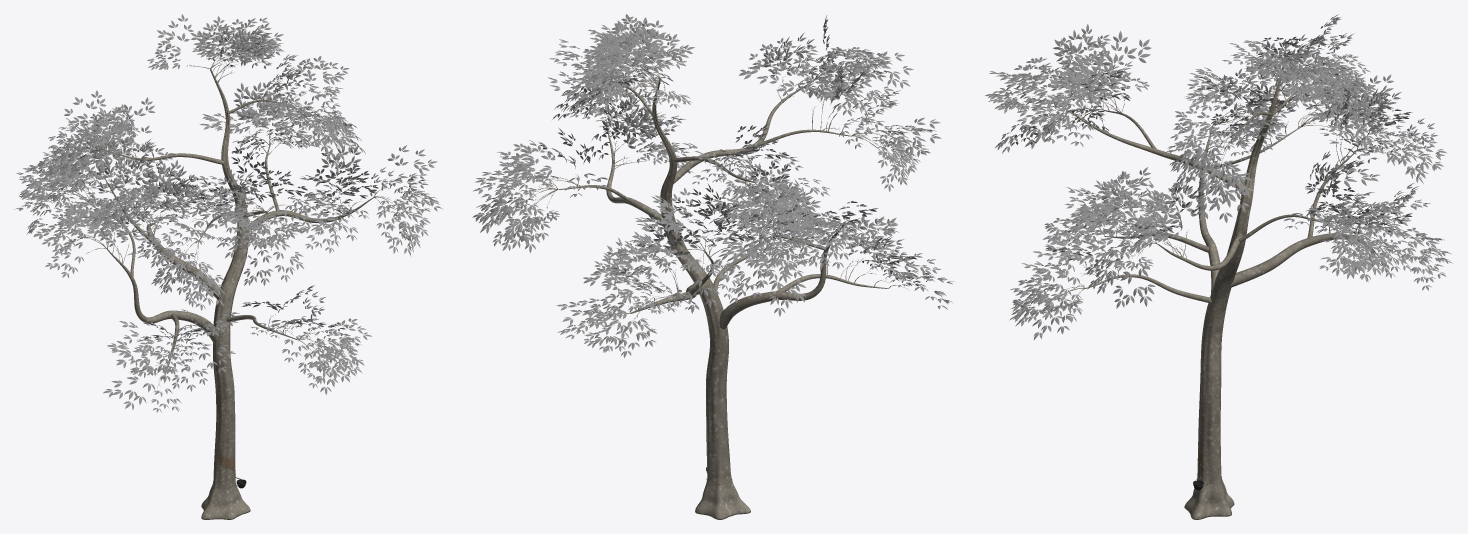
Rendered from RT_Mature_C_LOD0.glb.
The picture shows the model from 3 angles, left to right: view 1: azimuth 30°, elevation 25°; view 2: azimuth 150°, elevation 25°; view 3: azimuth 270°, elevation 25°; orthographic projection. The views are drawn at different scales.
Parts seen in each view (by area): view 1: RT_Mature_C_LOD0_Foliage, RT_Mature_C_LOD0_Body; view 2: RT_Mature_C_LOD0_Foliage, RT_Mature_C_LOD0_Body; view 3: RT_Mature_C_LOD0_Foliage, RT_Mature_C_LOD0_Body.
Part boxes in pixels (x1,y1,x2,y2): RT_Mature_C_LOD0_Foliage: [14, 14, 443, 412]; RT_Mature_C_LOD0_Body: [54, 52, 396, 519]; RT_Mature_C_LOD0_Foliage: [472, 14, 953, 357]; RT_Mature_C_LOD0_Body: [519, 56, 909, 519]; RT_Mature_C_LOD0_Foliage: [985, 14, 1452, 339]; RT_Mature_C_LOD0_Body: [1032, 52, 1410, 519].
Size of the model in its own units: 11.43 by 13.77 by 11.73.
2 materials, 1 textured.
